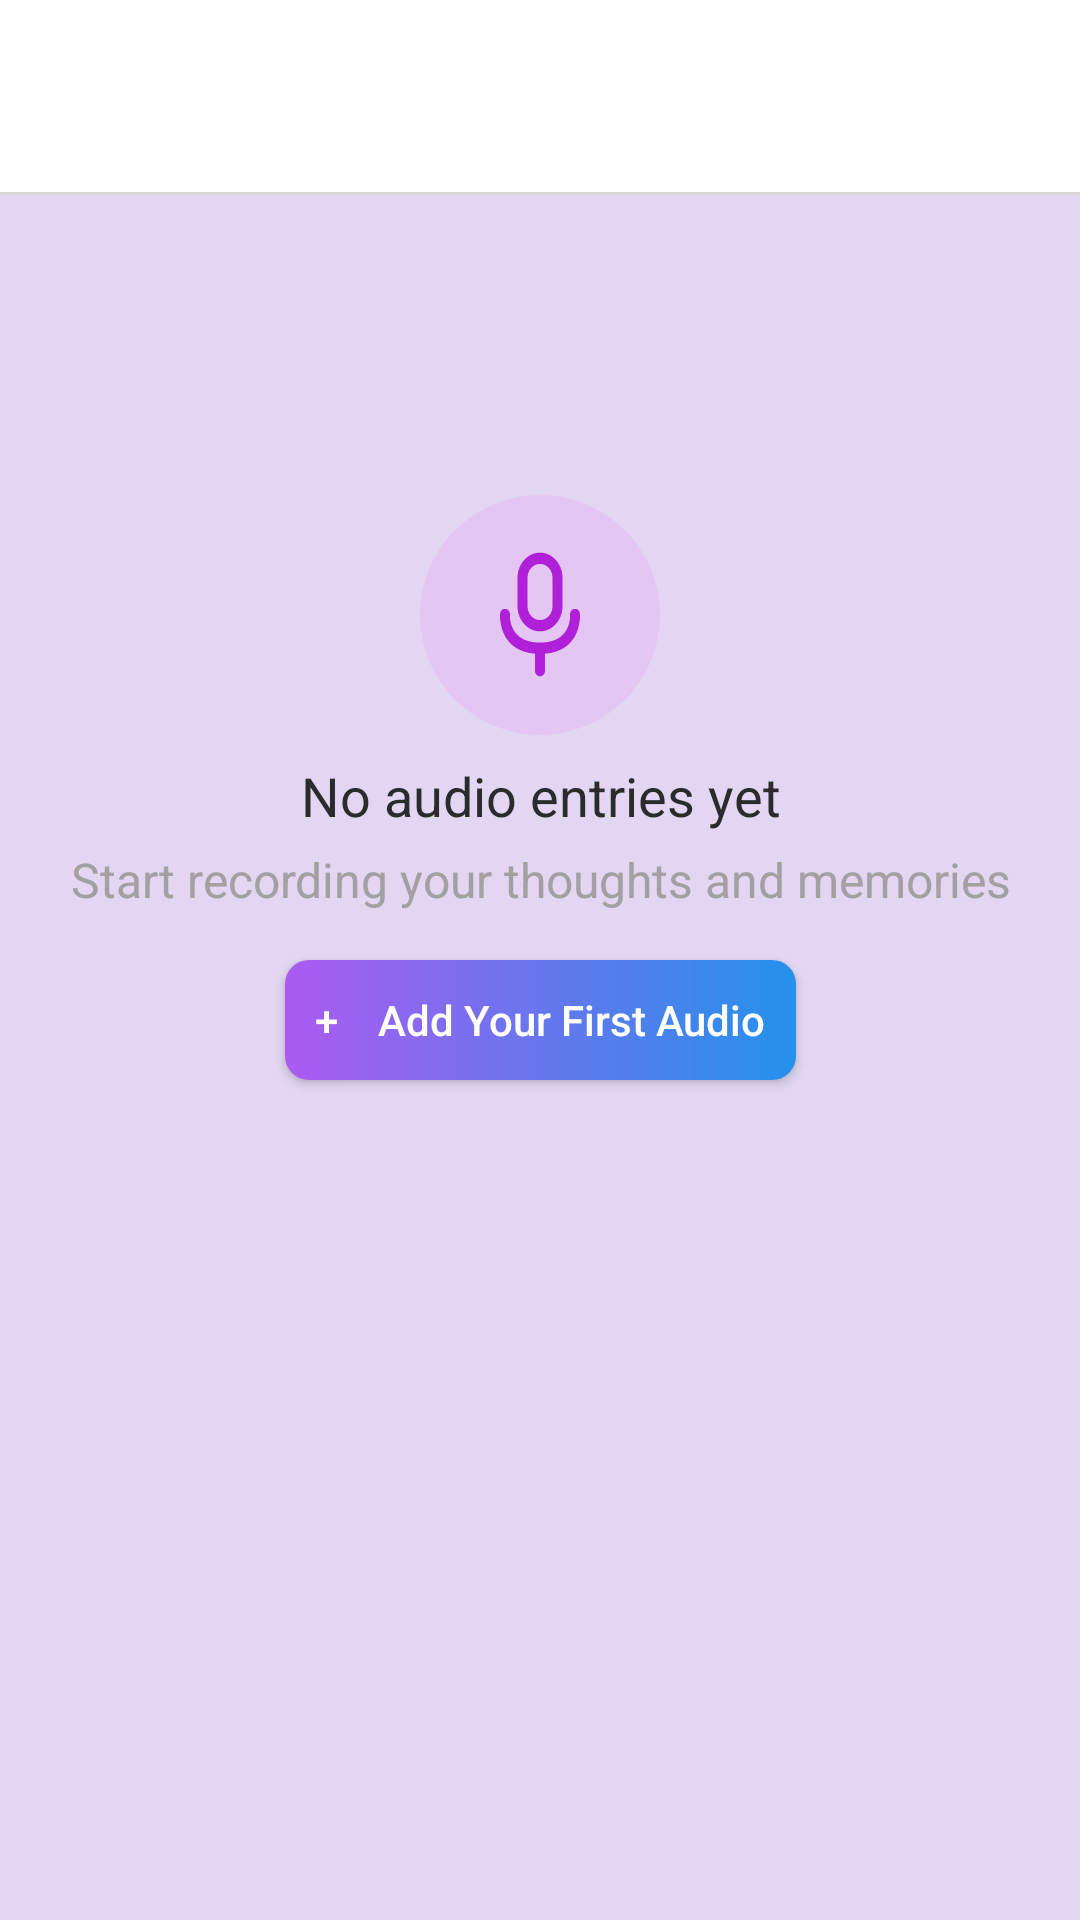

Icons on this 1080px x 1920px Android screen, each with its box as {"x1": x1, "y1": y1, "x2": x2, "y2": y2}:
microphone: {"x1": 500, "y1": 552, "x2": 580, "y2": 677}
